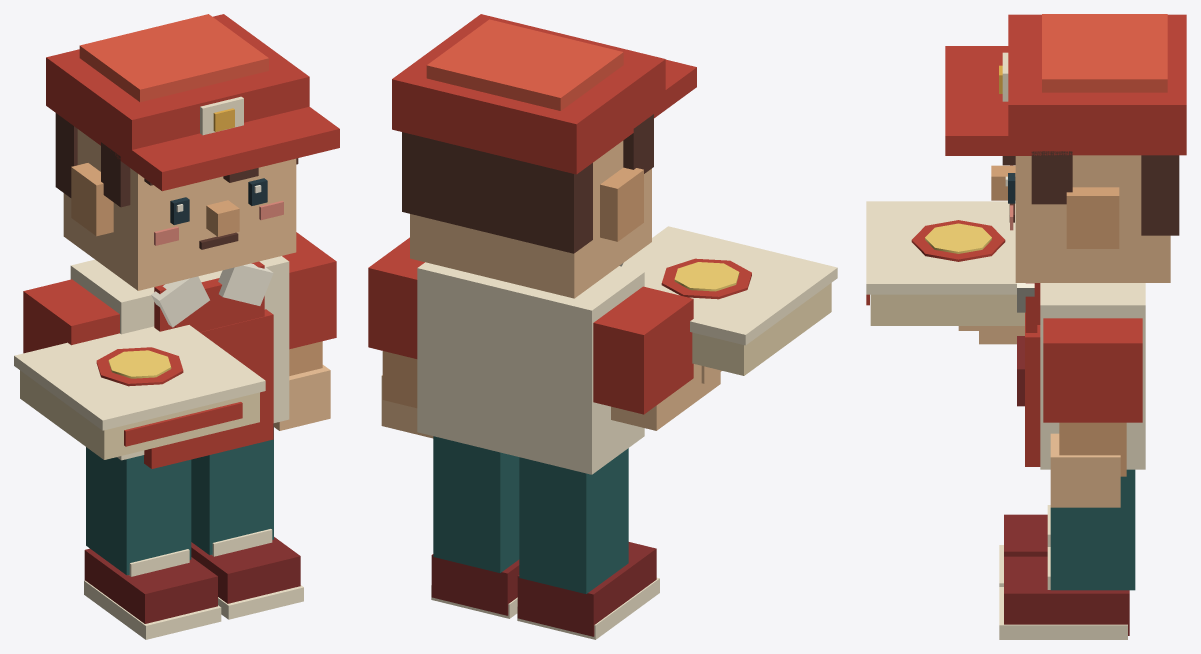
Rendered from pip.glb.
The picture shows the model from 3 angles, left to right: view 1: azimuth 30°, elevation 25°; view 2: azimuth 150°, elevation 25°; view 3: azimuth 270°, elevation 25°; orthographic projection. The views are drawn at different scales.
Parts seen in each view (by area): view 1: Head, Cap_047, Pizza_box_lid_027, Trouser_001, Cap_top_048, Cap_brim_049, Trouser_006, Shirt_011, Apron_012, Sneaker_003, Pizza_box_026, Sleeve_020 (+19 smaller); view 2: Shirt_011, Cap_047, Hair_back_032, Trouser_001, Head, Pizza_box_lid_027, Cap_top_048, Sleeve_020, Trouser_006, Sneaker_003, Sleeve_023, Pizza_box_026 (+10 smaller); view 3: Cap_047, Head, Pizza_box_lid_027, Sleeve_023, Cap_top_048, Trouser_006, Cap_brim_049, Shirt_011, Sneaker_008, Pizza_box_026, Hand_025, Ear_035 (+12 smaller).
Part boxes in pixels (box(x1,y1,x2,y2)): Head: box(63, 129, 296, 290); Cap_047: box(46, 14, 309, 167); Pizza_box_lid_027: box(14, 325, 265, 430); Trouser_001: box(86, 447, 191, 575); Cap_top_048: box(79, 14, 268, 102); Cap_brim_049: box(115, 106, 339, 191); Trouser_006: box(191, 423, 273, 554); Shirt_011: box(70, 256, 289, 460); Apron_012: box(144, 309, 273, 468); Sneaker_003: box(84, 548, 217, 623); Pizza_box_026: box(20, 370, 259, 459); Sleeve_020: box(23, 279, 119, 353); Shirt_011: box(417, 262, 644, 474); Cap_047: box(392, 14, 665, 174); Hair_back_032: box(402, 132, 592, 253); Trouser_001: box(519, 448, 628, 593); Head: box(410, 141, 651, 298); Pizza_box_lid_027: box(622, 226, 837, 345); Cap_top_048: box(426, 19, 623, 110); Sleeve_020: box(593, 286, 693, 414); Trouser_006: box(433, 436, 519, 572); Sneaker_003: box(517, 542, 656, 636); Sleeve_023: box(368, 237, 424, 358); Pizza_box_026: box(692, 283, 831, 375); Cap_047: box(1008, 14, 1186, 155); Head: box(1015, 155, 1170, 282); Pizza_box_lid_027: box(866, 201, 1016, 294); Sleeve_023: box(1043, 318, 1142, 422); Cap_top_048: box(1042, 14, 1167, 92); Trouser_006: box(1050, 469, 1135, 590); Cap_brim_049: box(945, 46, 1041, 155); Shirt_011: box(1040, 283, 1145, 469); Sneaker_008: box(1004, 556, 1129, 635); Pizza_box_026: box(870, 294, 1024, 325); Hand_025: box(1050, 433, 1120, 507); Ear_035: box(1066, 187, 1119, 248).
Bounding box in the file's own units: 1.31 × 2.09 × 1.1.
